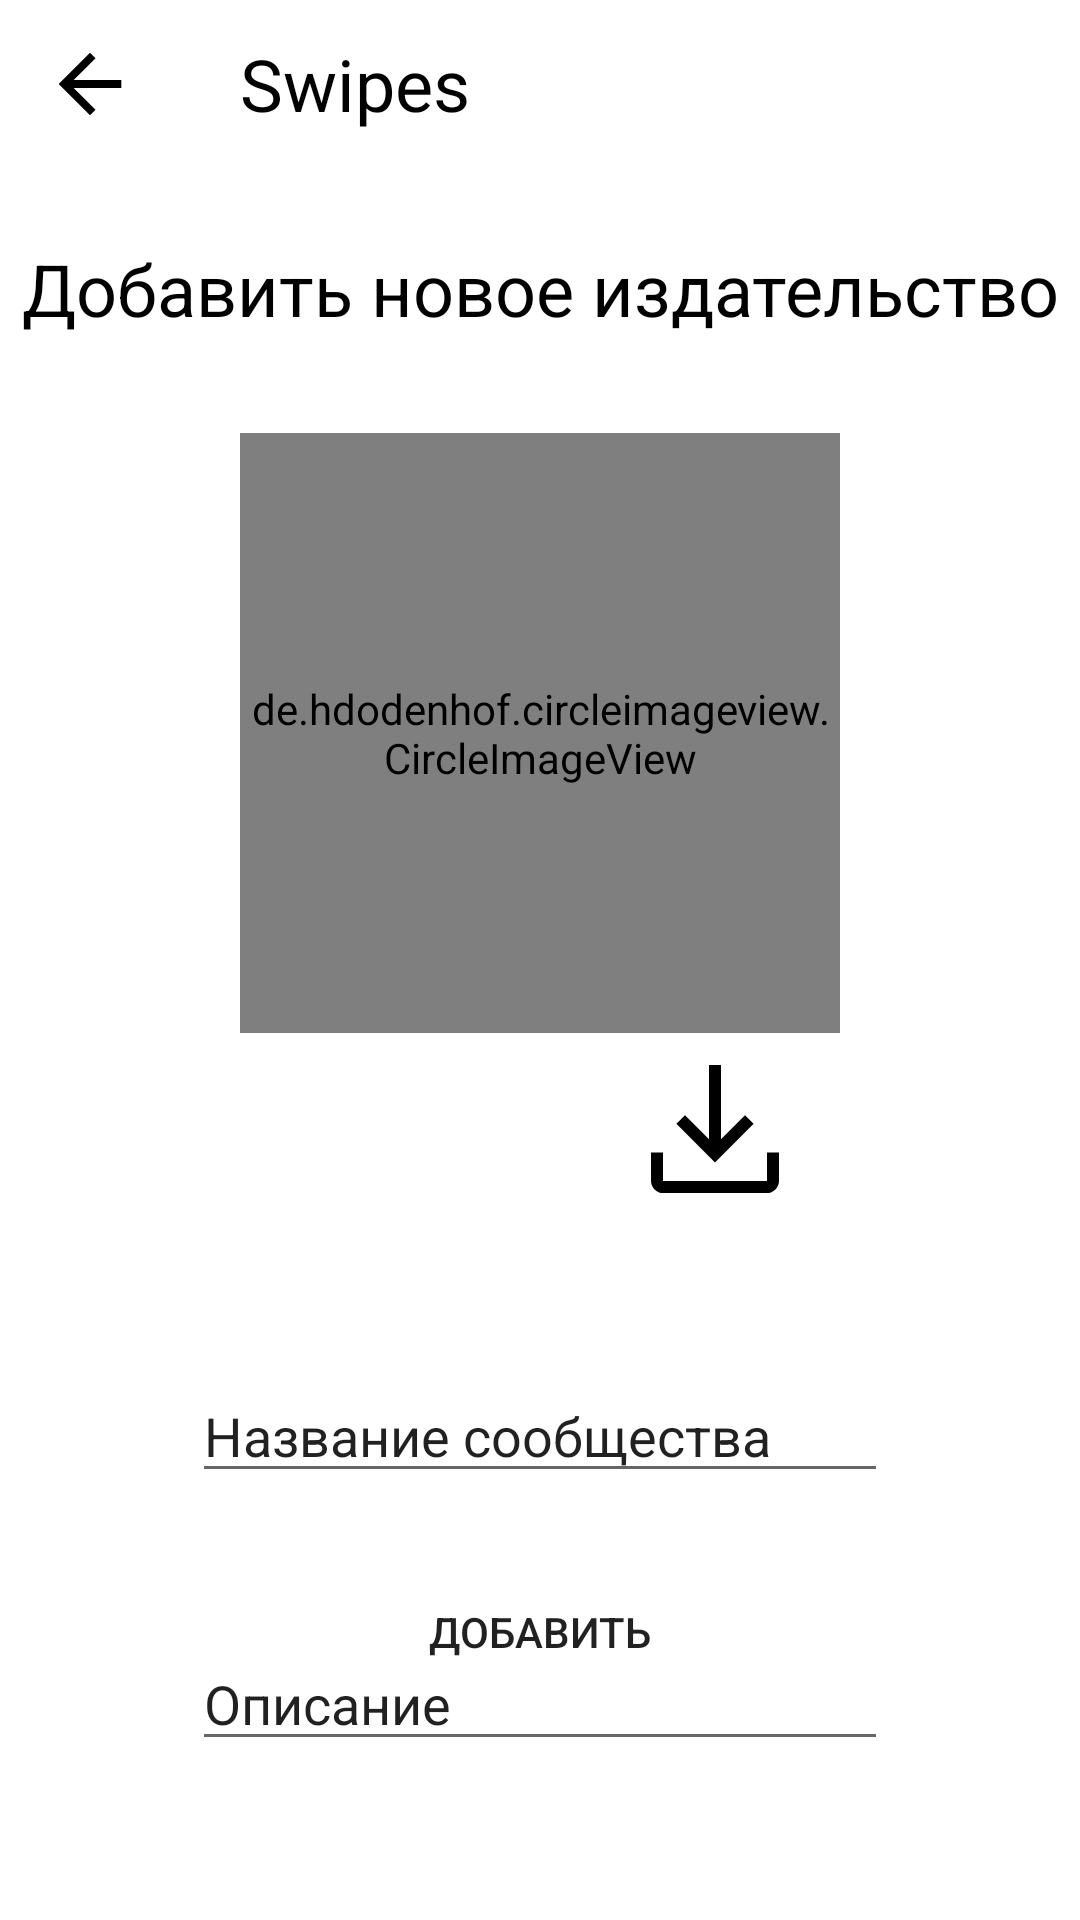

Icons on this 1080×1920 Android screen, each with its box as (x1, y1, x2, y2):
arrow back: (59, 53, 122, 115)
file download: (651, 1065, 779, 1193)
